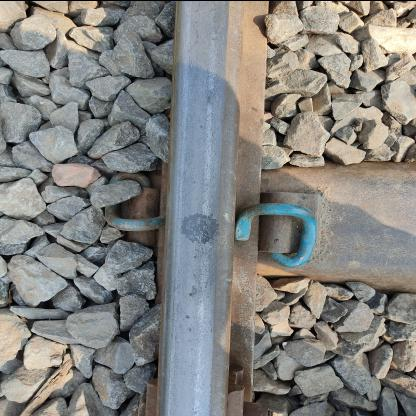Non Defective: (83, 148, 354, 284)
